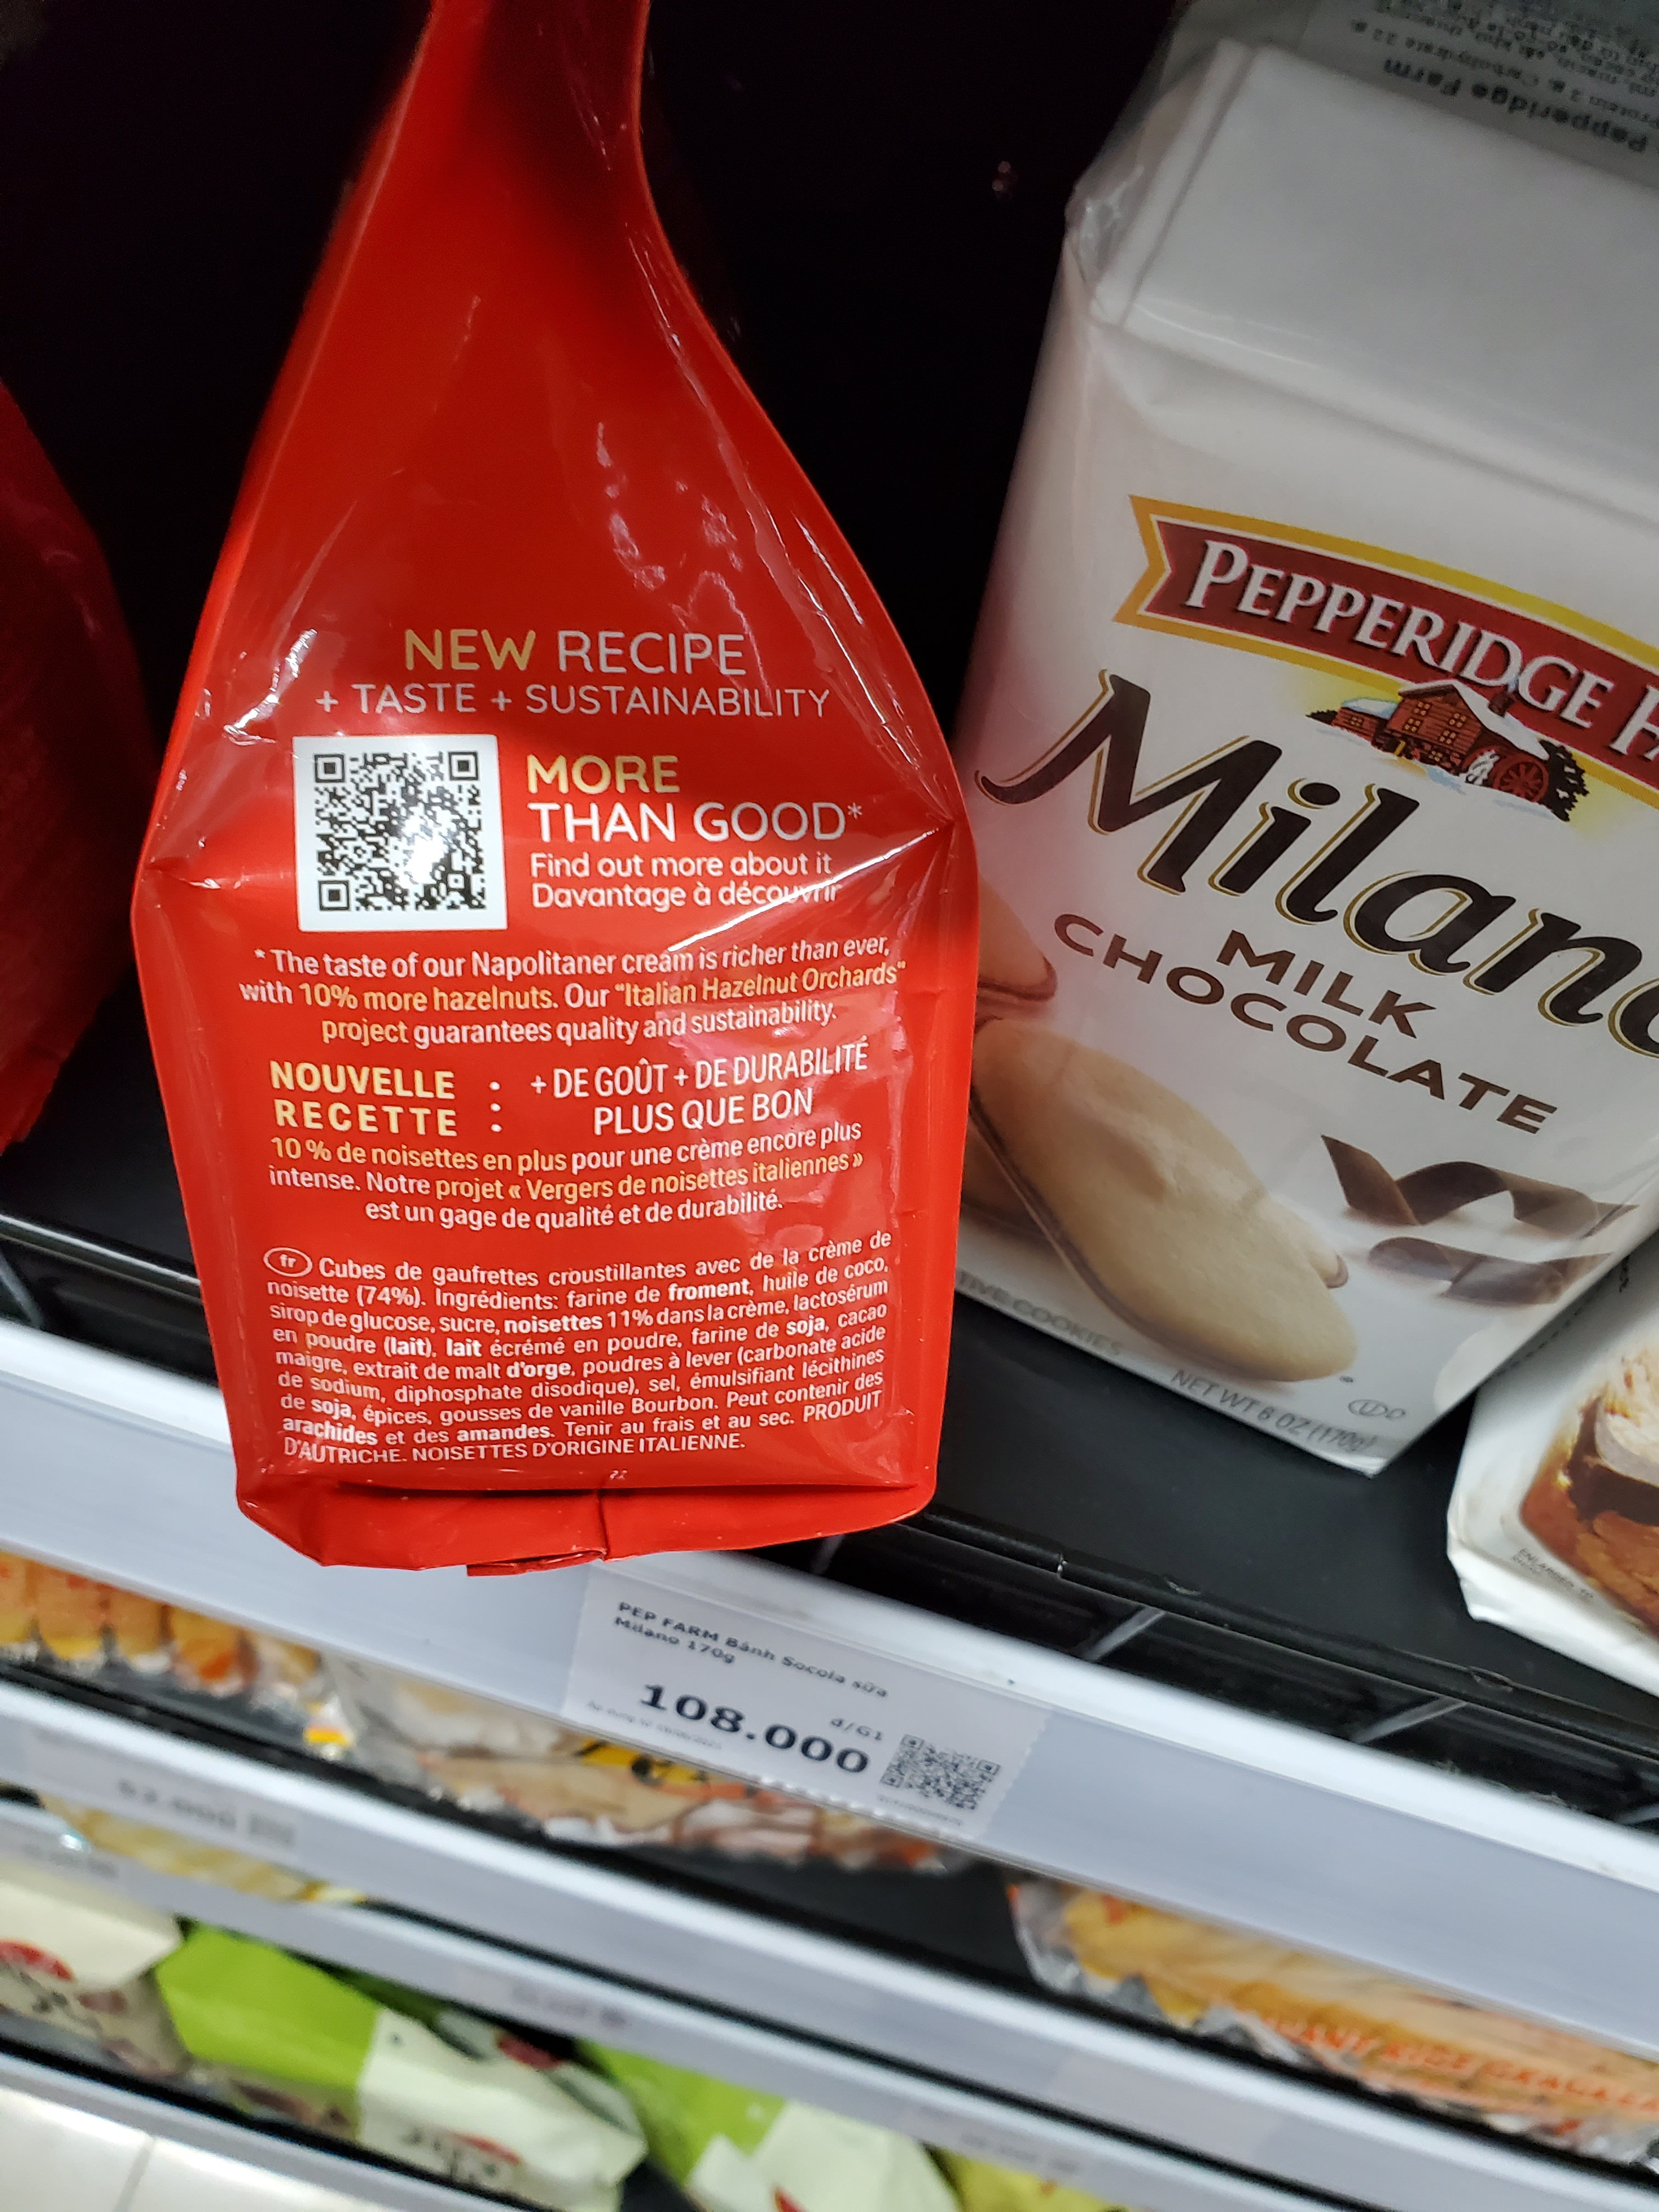qr code: (281, 723, 516, 932)
